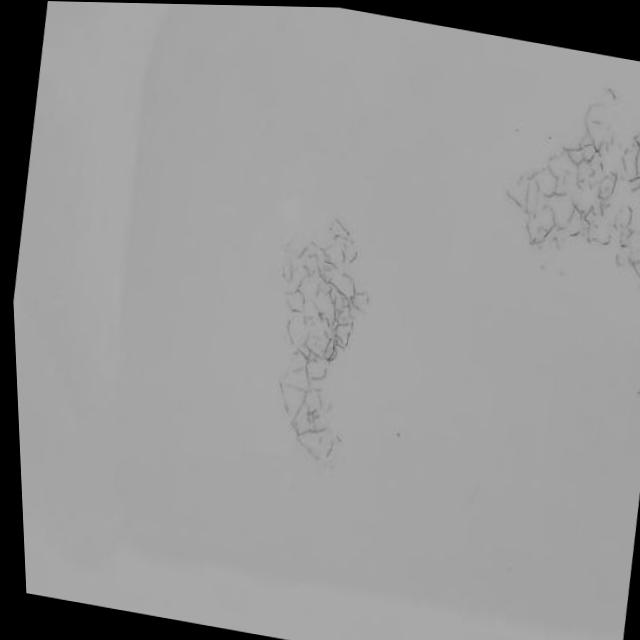Paint-Crack: (503, 85, 640, 281), (276, 220, 373, 463)
